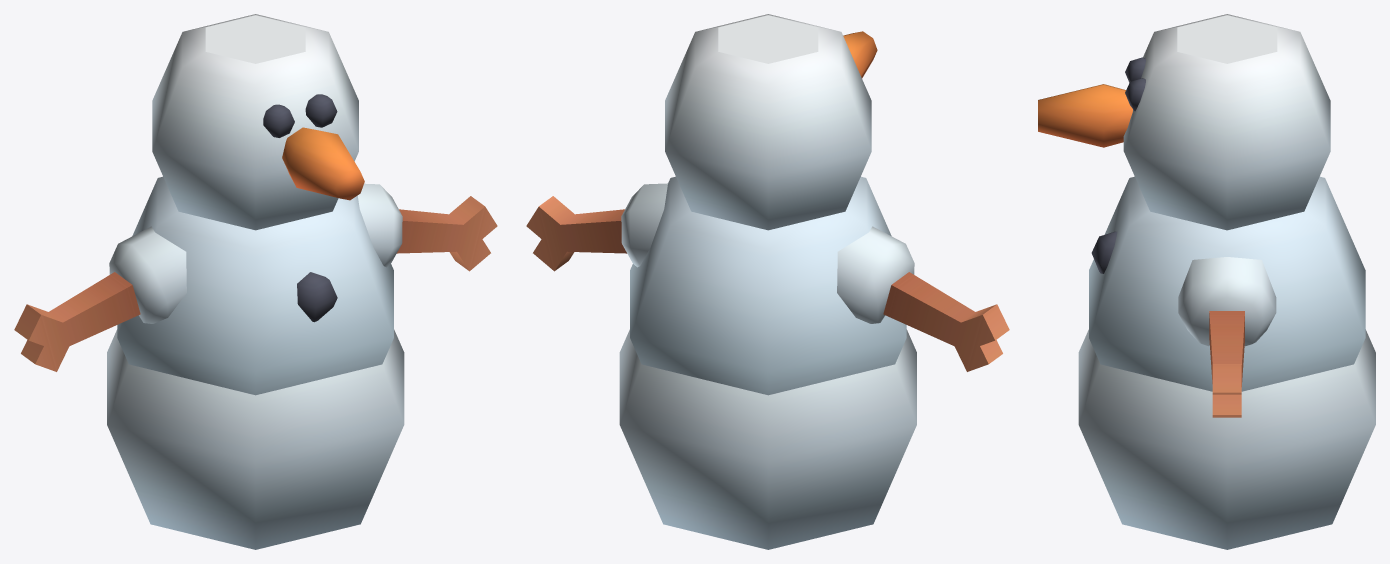
The model's file is kenney-holiday-snowman.glb.
The picture shows the model from 3 angles, left to right: view 1: azimuth 30°, elevation 25°; view 2: azimuth 150°, elevation 25°; view 3: azimuth 270°, elevation 25°; orthographic projection.
Parts seen in each view (by area): view 1: snowman; view 2: snowman; view 3: snowman.
Part boxes in pixels (x1,y1,x2,y2): snowman: (14, 14, 497, 549); snowman: (526, 14, 1009, 549); snowman: (1038, 14, 1375, 549).
Bounding box in the file's own units: 1.1 × 1.06 × 0.6881.
1 material, 1 textured.
